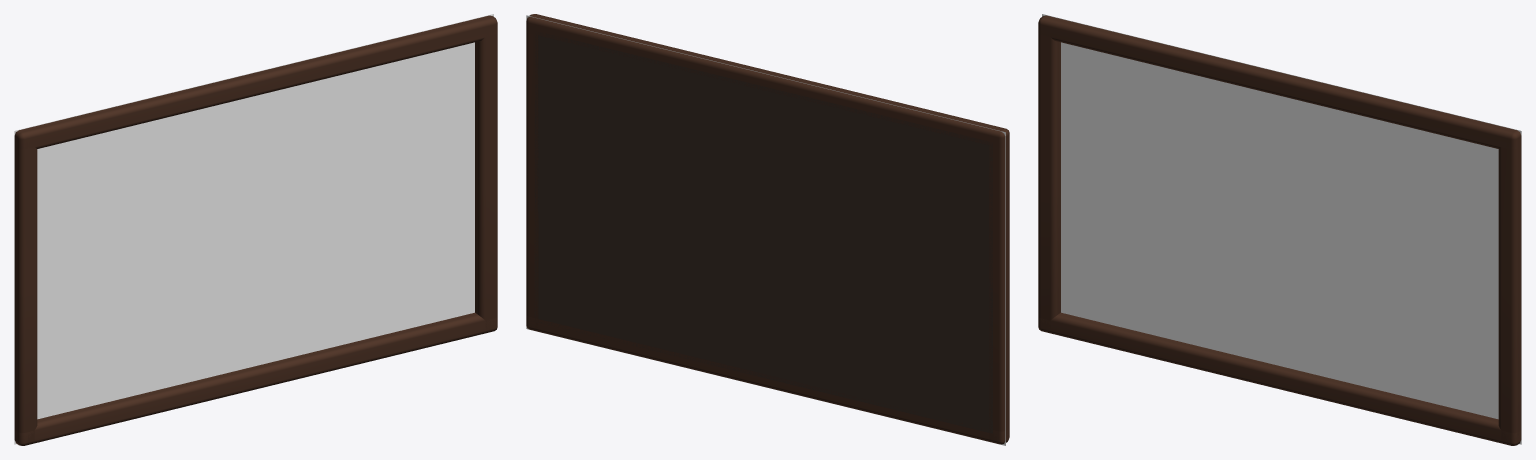
Rendered from furn_menu_board.glb.
3 views of the same model, side by side, from view 1: azimuth 30°, elevation 25°; view 2: azimuth 150°, elevation 25°; view 3: azimuth 330°, elevation 25° (orthographic).
Visible parts, largest first — view 1: furn_menu_board_pic, furn_menu_board_main; view 2: furn_menu_board_main, furn_menu_board_pic; view 3: furn_menu_board_pic, furn_menu_board_main.
Boxes of the visible parts, x1,y1,x2,y2 form: furn_menu_board_pic: (14, 14, 493, 444); furn_menu_board_main: (14, 15, 497, 445); furn_menu_board_main: (526, 14, 1009, 444); furn_menu_board_pic: (526, 15, 1005, 445); furn_menu_board_pic: (1042, 14, 1521, 444); furn_menu_board_main: (1038, 15, 1521, 445).
Size of the model in its own units: 2 by 1.25 by 0.06.
